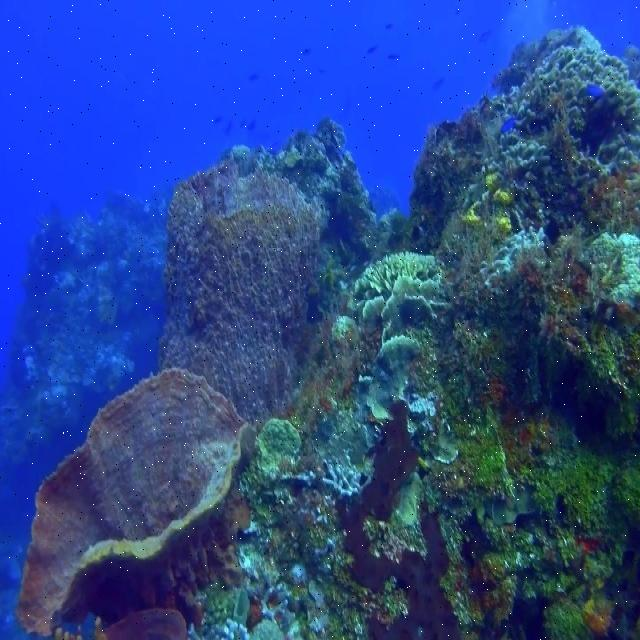reefs: (16, 369, 249, 635), (347, 250, 443, 309), (367, 336, 425, 421), (588, 233, 639, 301), (256, 418, 303, 469), (332, 317, 359, 342)
